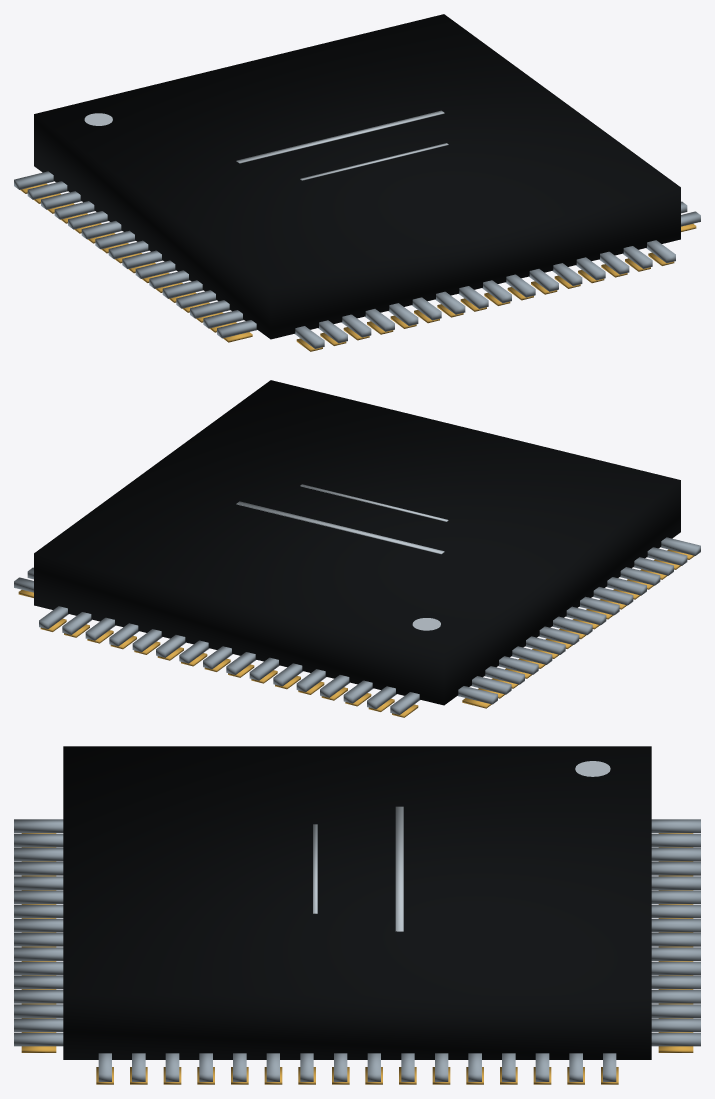
3 views of the same model, one above another, from view 1: azimuth 30°, elevation 25°; view 2: azimuth 150°, elevation 25°; view 3: azimuth 270°, elevation 25° (orthographic). The views are drawn at different scales.
Parts seen in each view (by area): view 1: Part_000, Part_001; view 2: Part_000, Part_001; view 3: Part_000, Part_001, Part_008, Part_040, Part_006, Part_016, Part_024, Part_026, Part_034, Part_038, Part_048, Part_056 (+22 smaller).
Part boxes in pixels (<box>): Part_000: <box>34,14,680,339</box>; Part_001: <box>236,110,444,163</box>; Part_000: <box>34,380,680,705</box>; Part_001: <box>236,501,444,554</box>; Part_000: <box>63,746,651,1059</box>; Part_001: <box>395,806,403,931</box>; Part_008: <box>651,847,700,861</box>; Part_040: <box>14,847,63,861</box>; Part_006: <box>651,833,700,847</box>; Part_016: <box>651,904,700,918</box>; Part_024: <box>651,961,700,975</box>; Part_026: <box>651,975,700,989</box>; Part_034: <box>651,1032,700,1046</box>; Part_038: <box>14,833,63,847</box>; Part_048: <box>14,904,63,918</box>; Part_056: <box>14,961,63,975</box>.
Size of the model in its own units: 0.0163 by 0.0163 by 0.00196.
